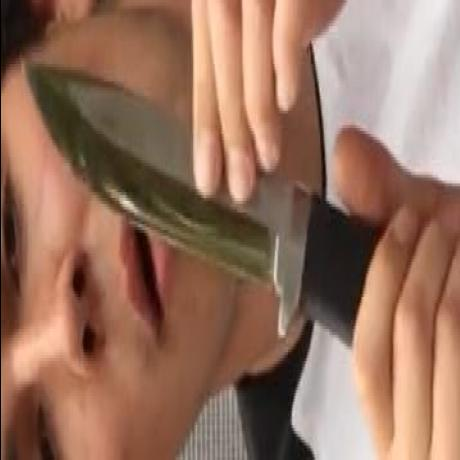1: (2, 0, 460, 454)
weapon: (13, 57, 376, 345)
